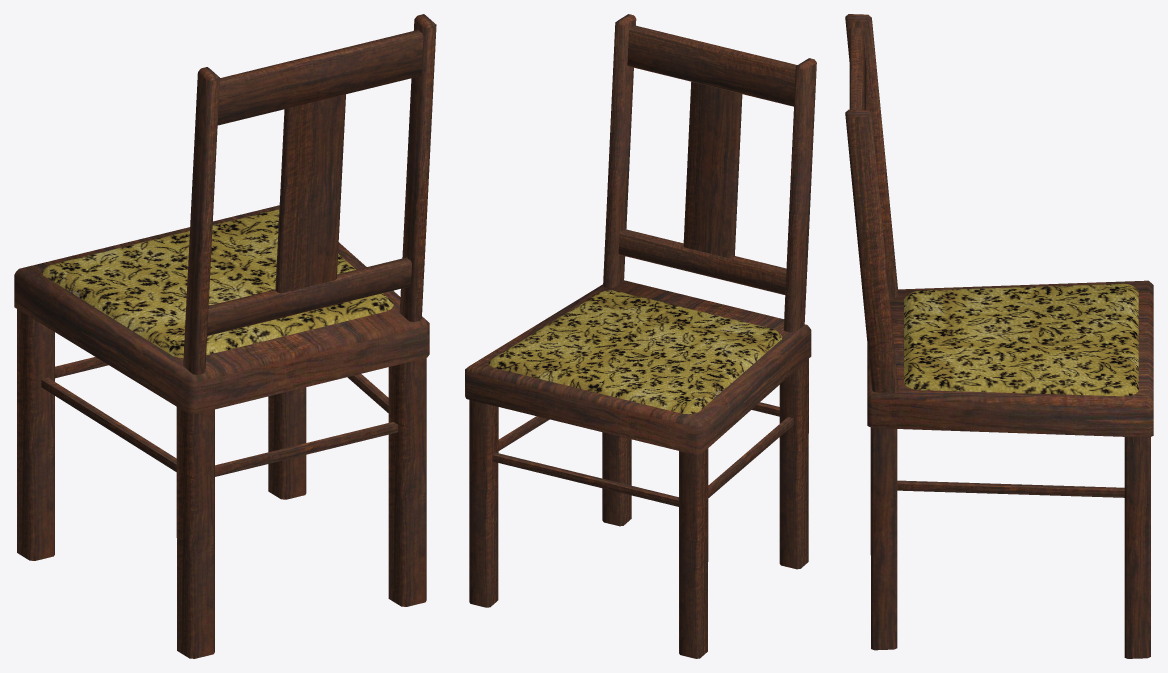
File: chair01.obj
3 renders of one model, left to right at view 1: azimuth 30°, elevation 25°; view 2: azimuth 150°, elevation 25°; view 3: azimuth 270°, elevation 25°, orthographic. The views are drawn at different scales.
Parts seen in each view (by area): view 1: mesh; view 2: mesh; view 3: mesh.
Boxes of the visible parts, x1,y1,x2,y2 form: mesh: (14, 14, 436, 658); mesh: (465, 14, 816, 658); mesh: (845, 14, 1153, 658).
Size of the model in its own units: 23.8 by 47.38 by 24.75.
1 material, 1 textured.
